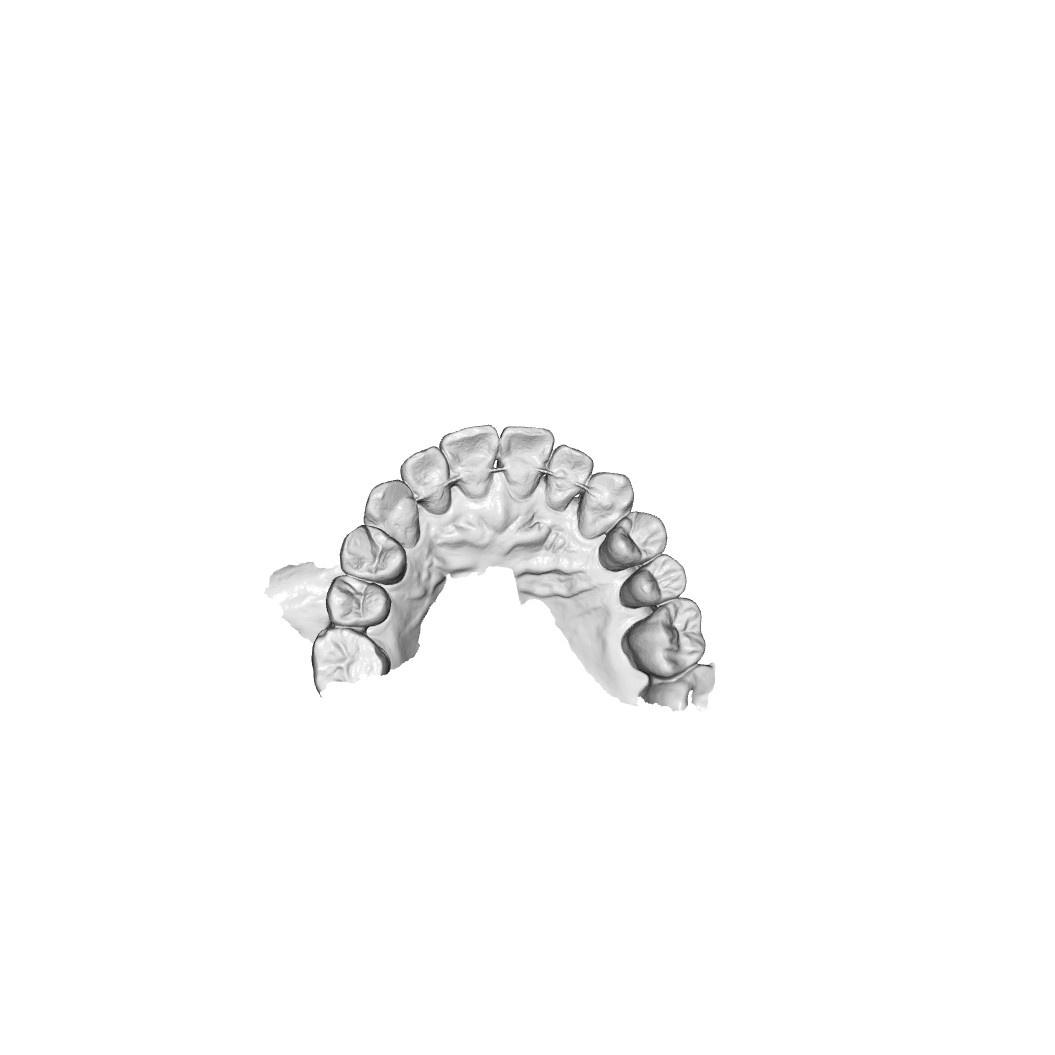canine: (575, 470, 637, 539), (363, 477, 422, 549)
incisor: (440, 423, 501, 497), (497, 423, 556, 495), (399, 445, 456, 516), (549, 447, 594, 512)
molar: (624, 598, 705, 679), (309, 625, 392, 680)
premolar: (338, 523, 407, 588), (600, 510, 670, 571), (616, 555, 690, 611), (325, 574, 388, 633)
